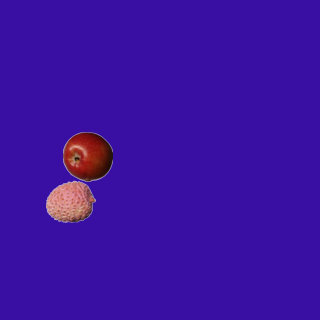Apple Braeburn: (62, 131, 112, 181)
Lychee: (45, 176, 95, 226)
